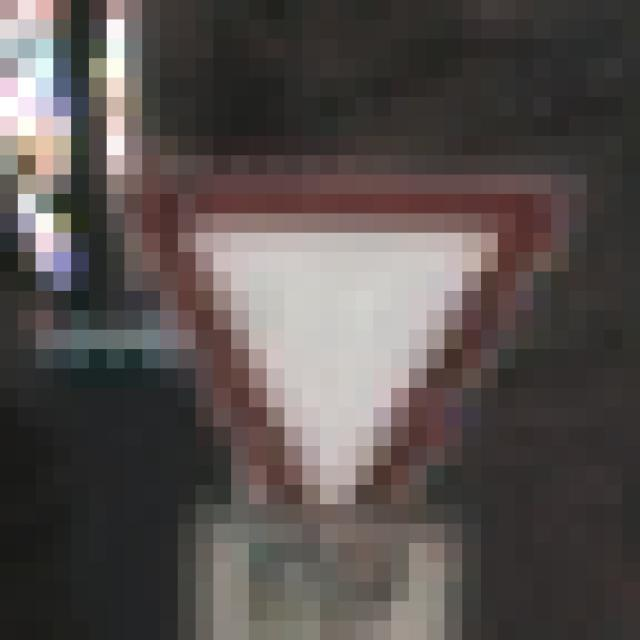Give Way: (108, 98, 552, 544)
